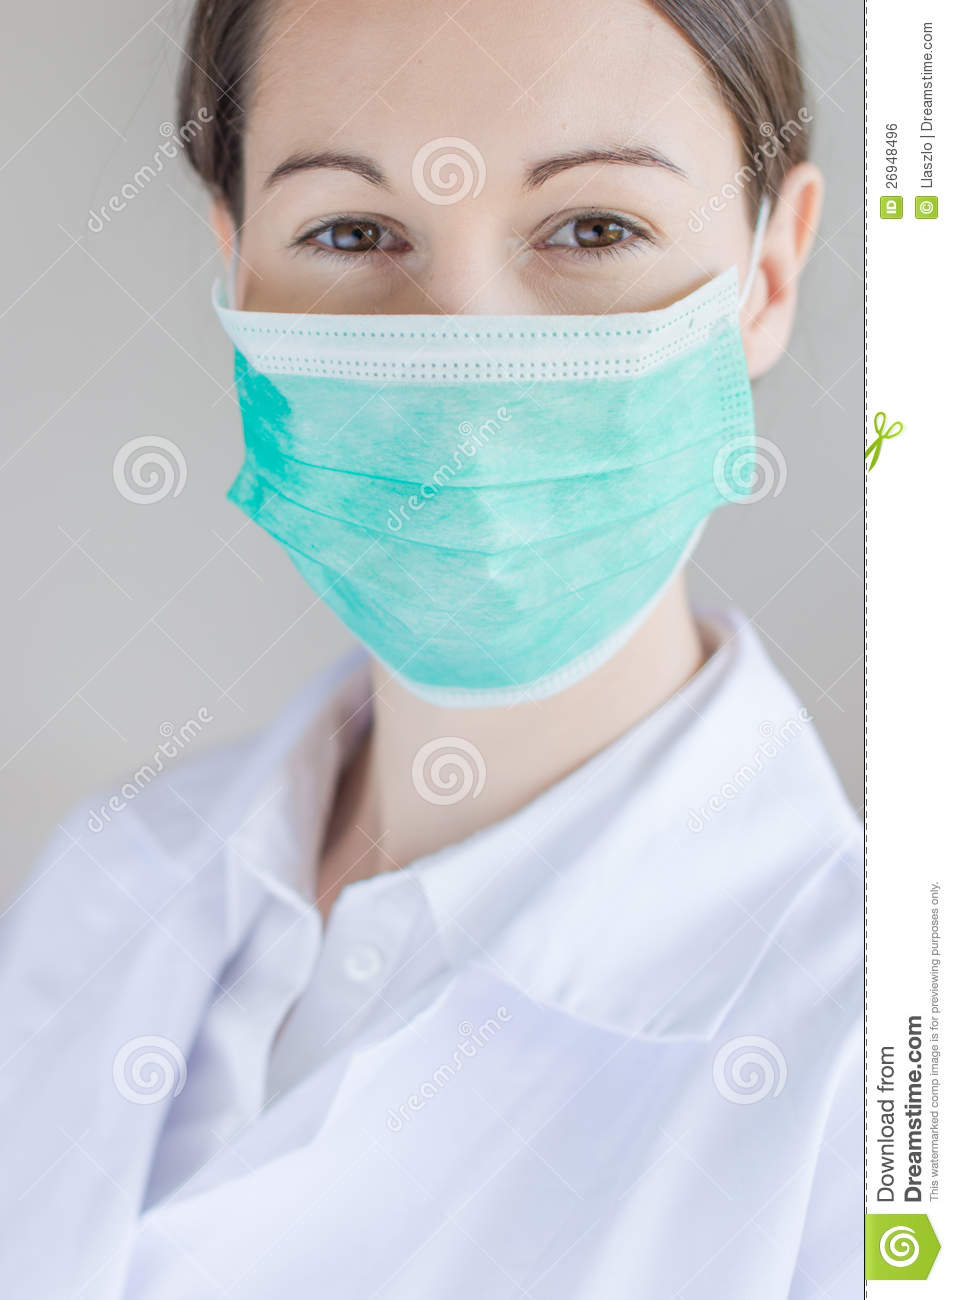mask: (207, 293, 749, 705)
